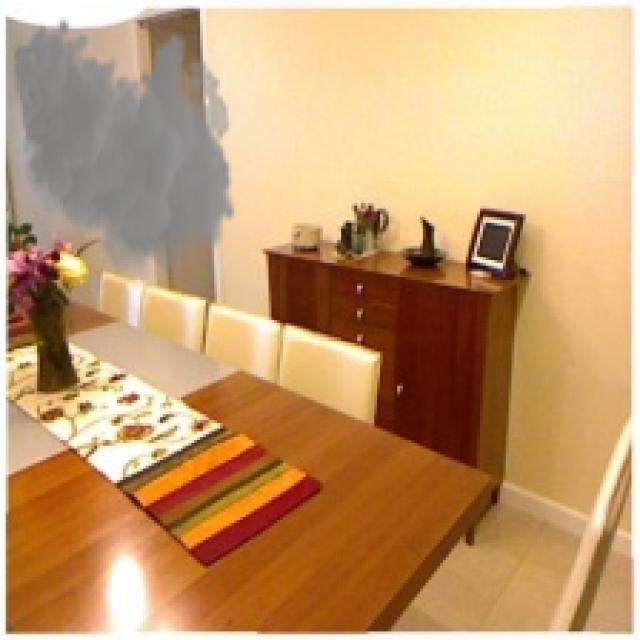smoke: (12, 17, 237, 286)
